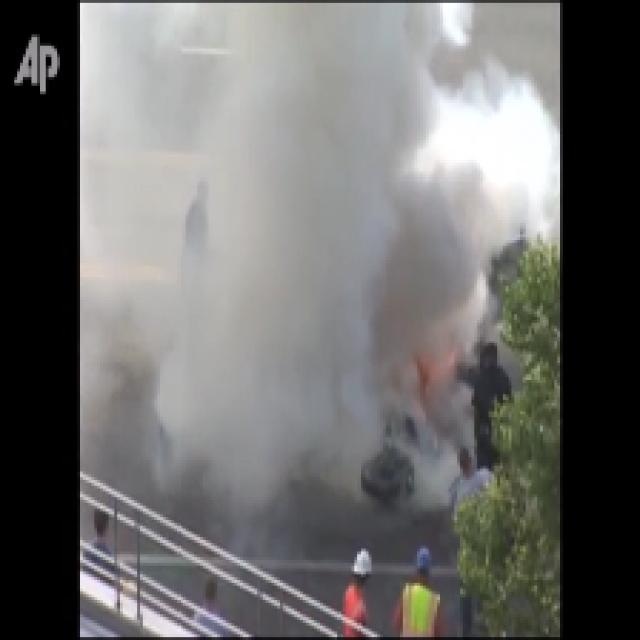smoke: (167, 11, 454, 498)
